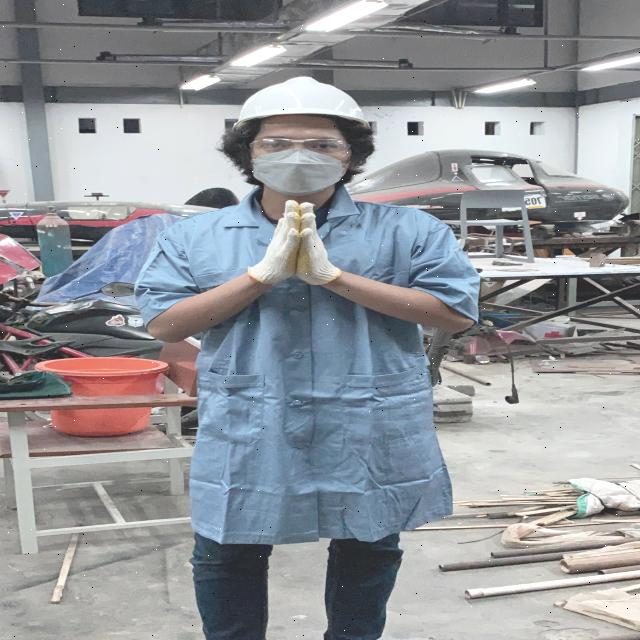Gloves: (248, 201, 341, 286)
Hardhat: (236, 76, 368, 128)
Mask: (252, 148, 348, 196)
No Overall Suit: (190, 277, 451, 545), (318, 188, 478, 319), (136, 189, 275, 320)
